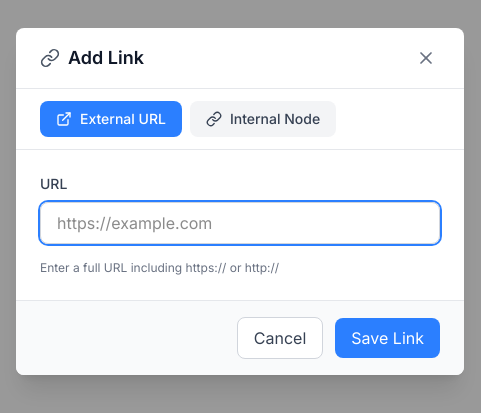
Test case: NodeLinkEditor › shows error for empty URL
What coordinates should you click on to do the following:
click the button "Save Link"
I would click on:
 (388, 338)
Its box is top-left (335, 318), bottom-right (440, 358).
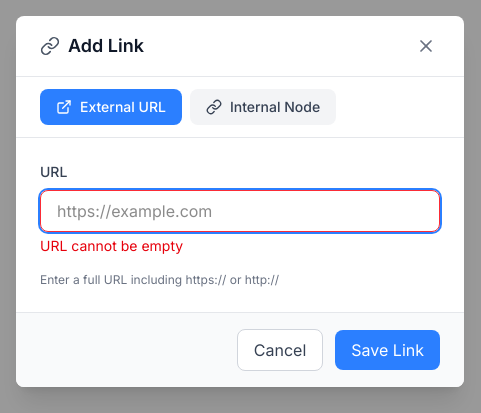
Now the text "URL cannot be empty" is shown, box top-left (40, 236), bottom-right (183, 254)
